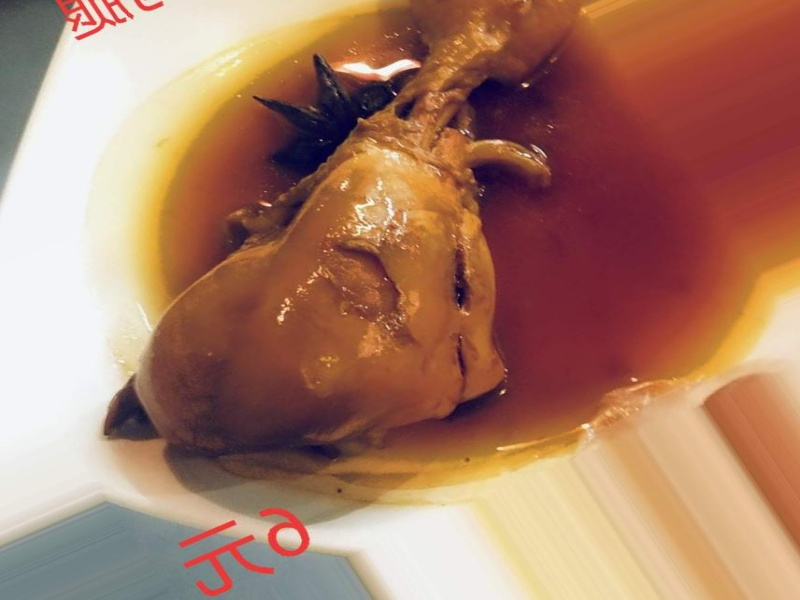chicken: (89, 7, 683, 477)
